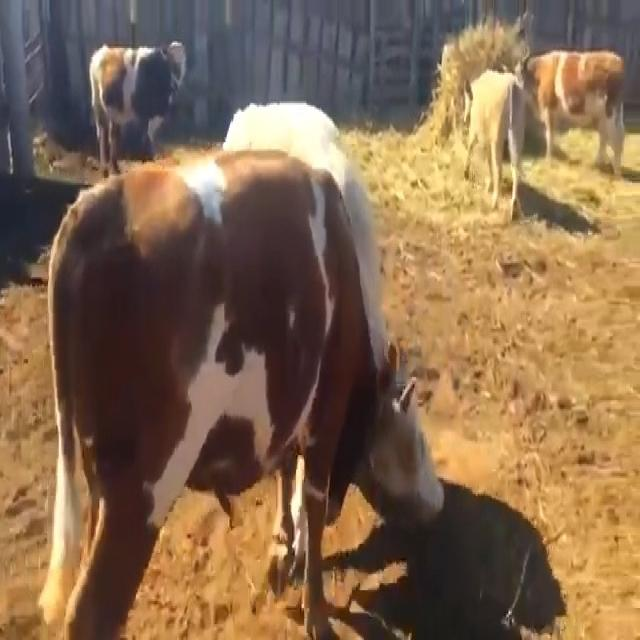cow: (40, 102, 444, 638), (90, 48, 185, 170), (530, 53, 622, 170), (468, 71, 525, 217)
